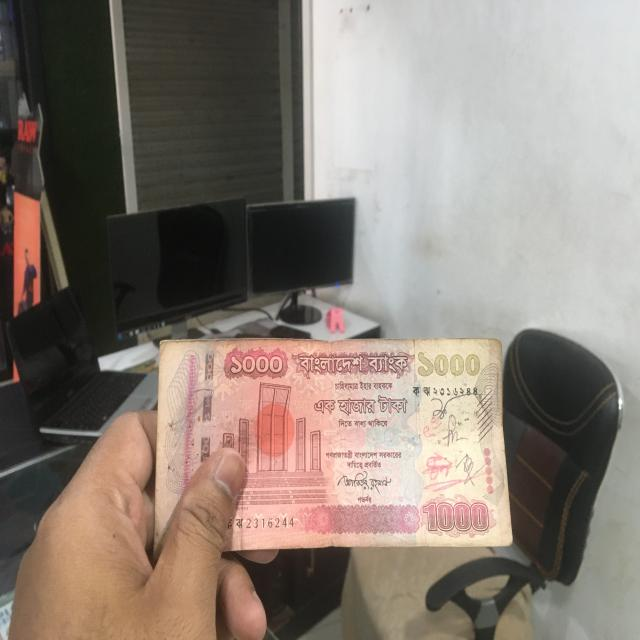Taka: (155, 334, 515, 542)
